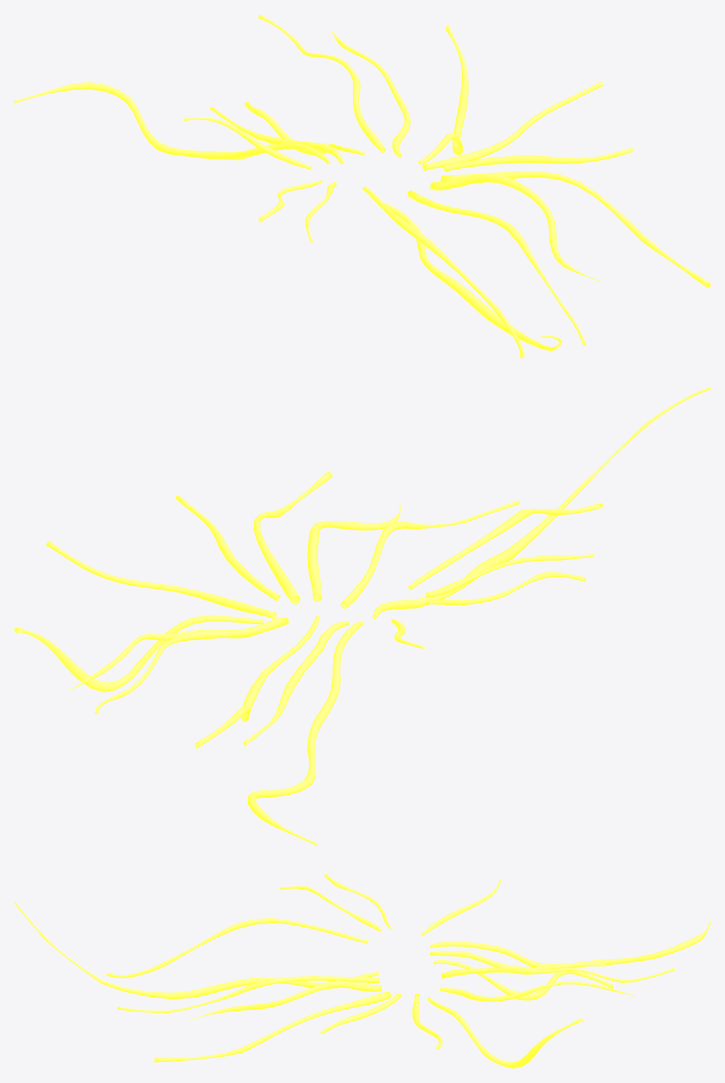
Rendered from microtubules.fbx.
3 views of the same model, one above another, from view 1: azimuth 30°, elevation 25°; view 2: azimuth 150°, elevation 25°; view 3: azimuth 270°, elevation 25° (orthographic). The views are drawn at different scales.
Visible parts, largest first — view 1: Centrioles_microtubes.011, Centrioles_microtubes.001, Centrioles_microtubes.004, Centrioles_microtubes.003, Centrioles_microtubes.002, Centrioles_microtubes.015, Centrioles_microtubes.006, Centrioles_microtubes.005, Centrioles_microtubes, Centrioles_microtubes.008, Centrioles_microtubes.007, Centrioles_microtubes.010 (+2 smaller); view 2: Centrioles_microtubes.011, Centrioles_microtubes.001, Centrioles_microtubes, Centrioles_microtubes.006, Centrioles_microtubes.008, Centrioles_microtubes.003, Centrioles_microtubes.004, Centrioles_microtubes.015, Centrioles_microtubes.002, Centrioles_microtubes.009, Centrioles_microtubes.010, Centrioles_microtubes.005 (+3 smaller); view 3: Centrioles_microtubes.001, Centrioles_microtubes.011, Centrioles_microtubes.004, Centrioles_microtubes.015, Centrioles_microtubes.002, Centrioles_microtubes.003, Centrioles_microtubes, Centrioles_microtubes.008, Centrioles_microtubes.009, Centrioles_microtubes.007, Centrioles_microtubes.010, Centrioles_microtubes.005 (+4 smaller).
Boxes of the visible parts, <box> form: Centrioles_microtubes.011: <box>14,82,330,163</box>; Centrioles_microtubes.001: <box>383,203,561,351</box>; Centrioles_microtubes.004: <box>440,171,710,287</box>; Centrioles_microtubes.003: <box>430,173,599,281</box>; Centrioles_microtubes.002: <box>407,190,586,345</box>; Centrioles_microtubes.015: <box>362,186,524,358</box>; Centrioles_microtubes.006: <box>422,81,603,170</box>; Centrioles_microtubes.005: <box>443,147,633,171</box>; Centrioles_microtubes: <box>418,25,468,164</box>; Centrioles_microtubes.008: <box>258,15,385,152</box>; Centrioles_microtubes.007: <box>331,32,410,157</box>; Centrioles_microtubes.010: <box>210,107,343,163</box>; Centrioles_microtubes.011: <box>247,621,363,845</box>; Centrioles_microtubes.001: <box>372,387,710,618</box>; Centrioles_microtubes: <box>14,615,263,692</box>; Centrioles_microtubes.006: <box>46,541,276,618</box>; Centrioles_microtubes.008: <box>95,618,288,713</box>; Centrioles_microtubes.003: <box>307,506,401,601</box>; Centrioles_microtubes.004: <box>253,472,332,604</box>; Centrioles_microtubes.015: <box>408,502,603,589</box>; Centrioles_microtubes.002: <box>340,500,519,608</box>; Centrioles_microtubes.009: <box>195,616,319,748</box>; Centrioles_microtubes.010: <box>243,621,348,746</box>; Centrioles_microtubes.005: <box>175,495,280,600</box>; Centrioles_microtubes.001: <box>14,902,378,999</box>; Centrioles_microtubes.011: <box>430,922,710,967</box>; Centrioles_microtubes.004: <box>154,991,391,1062</box>; Centrioles_microtubes.015: <box>106,918,368,978</box>; Centrioles_microtubes.002: <box>117,976,379,1012</box>; Centrioles_microtubes.003: <box>190,980,381,1019</box>; Centrioles_microtubes: <box>427,997,584,1068</box>; Centrioles_microtubes.008: <box>441,967,674,982</box>; Centrioles_microtubes.009: <box>433,960,612,1000</box>; Centrioles_microtubes.007: <box>439,981,635,1001</box>; Centrioles_microtubes.010: <box>430,951,606,969</box>; Centrioles_microtubes.005: <box>320,993,401,1033</box>.
Size of the model in its own units: 923 by 219 by 1698.
